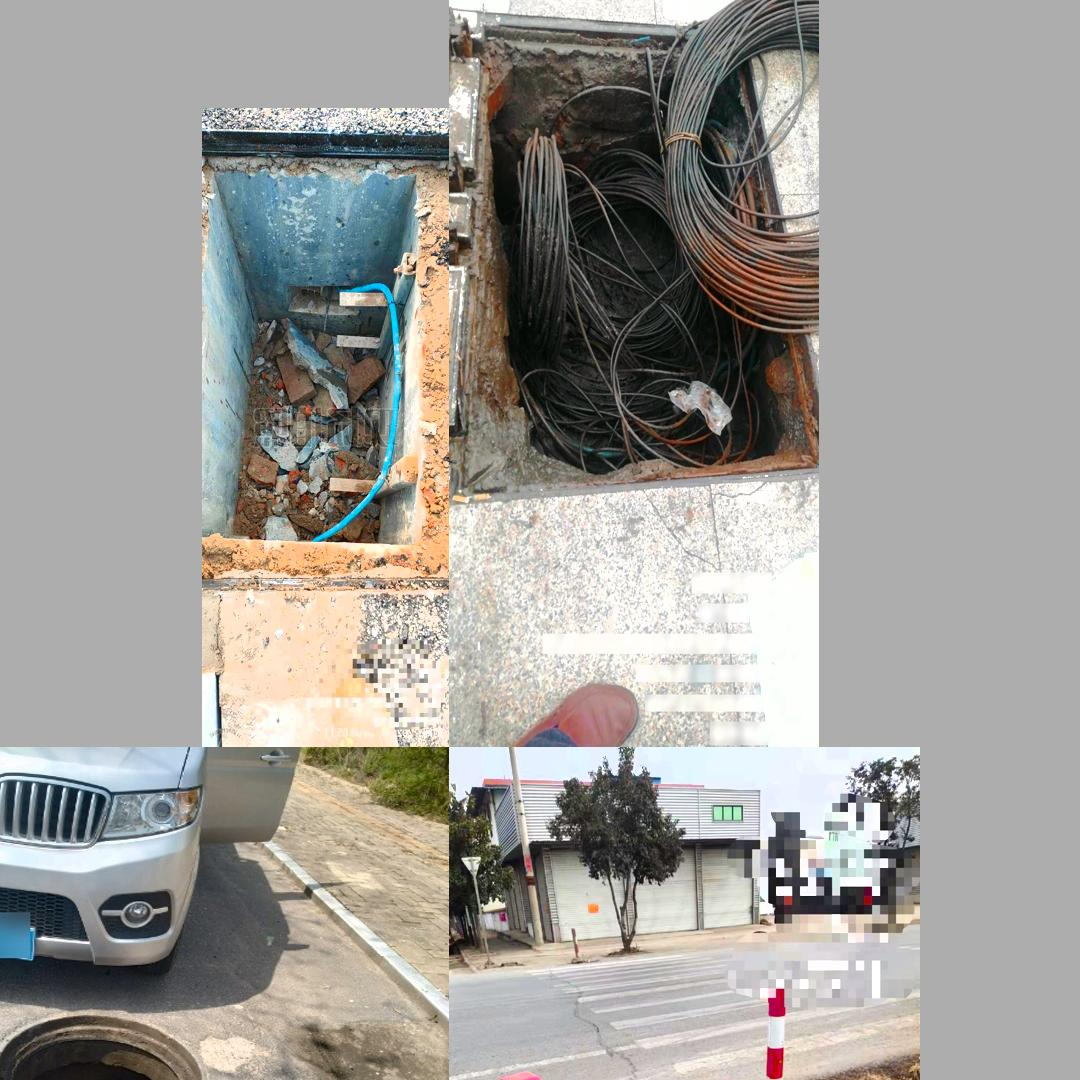lose: (452, 0, 808, 533), (202, 122, 445, 609), (0, 1000, 208, 1080)
